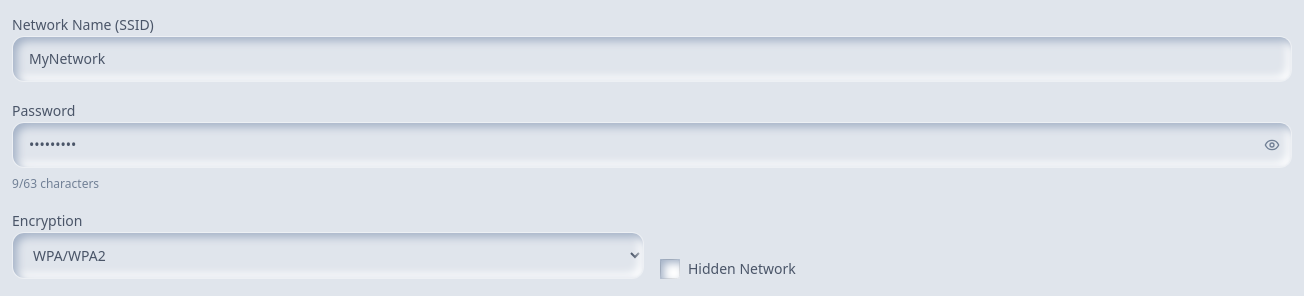
Test: QRContentForm › wifi type › toggles password visibility
The width and height of the screenshot is (1304, 296).
Click the button named "Show password".
click(1272, 145)  # box [1264, 137, 1280, 153]
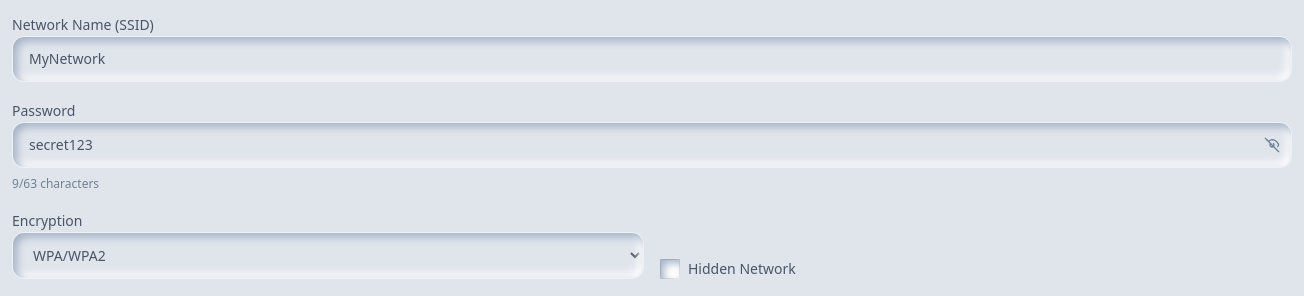
Expected: the field labelled "Password" shows its text, [12, 122, 1292, 168]
Expected: the button named "Hide password" is shown, [1264, 137, 1280, 153]
